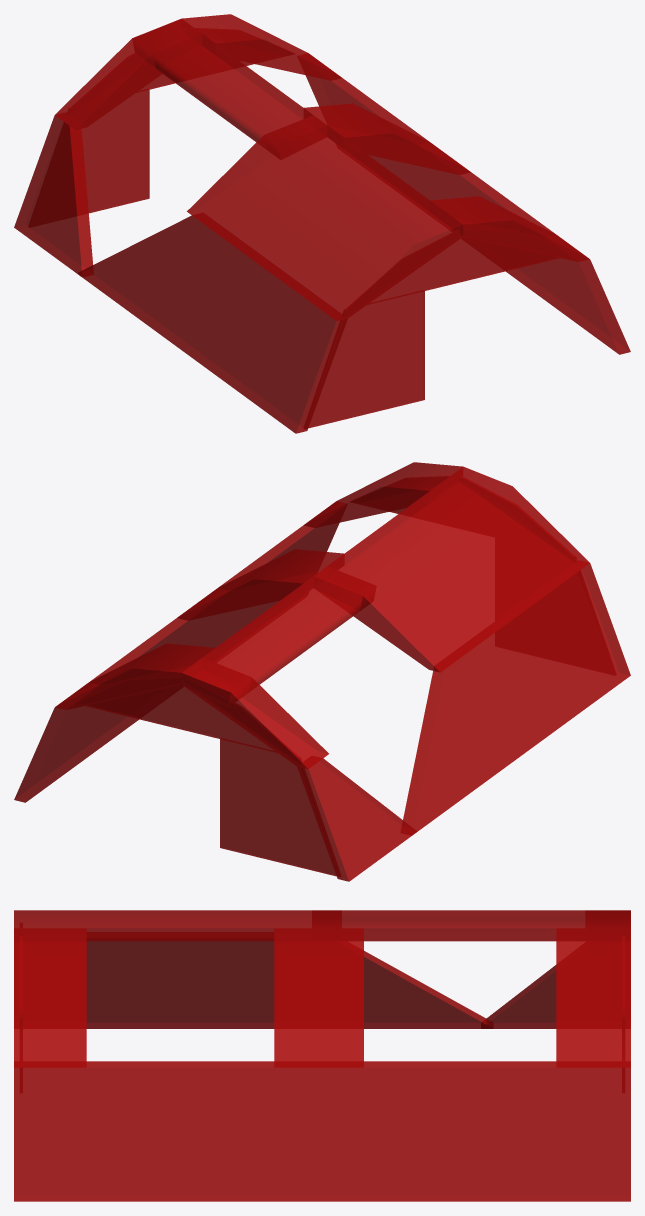
Rendered from SM_Bld_Tent_Refugee_Damaged_01_Collision.fbx.
3 renders of one model, top to bottom at view 1: azimuth 30°, elevation 25°; view 2: azimuth 150°, elevation 25°; view 3: azimuth 270°, elevation 25°, orthographic. The views are drawn at different scales.
Visible parts, largest first — view 1: SM_Bld_Tent_Refugee_Damaged_01_Collision; view 2: SM_Bld_Tent_Refugee_Damaged_01_Collision; view 3: SM_Bld_Tent_Refugee_Damaged_01_Collision.
Boxes of the visible parts, bbox=[...] form: SM_Bld_Tent_Refugee_Damaged_01_Collision: bbox=[14, 14, 630, 433]; SM_Bld_Tent_Refugee_Damaged_01_Collision: bbox=[14, 462, 630, 881]; SM_Bld_Tent_Refugee_Damaged_01_Collision: bbox=[14, 910, 630, 1201].
Bounding box in the file's own units: 592 × 284 × 861.
